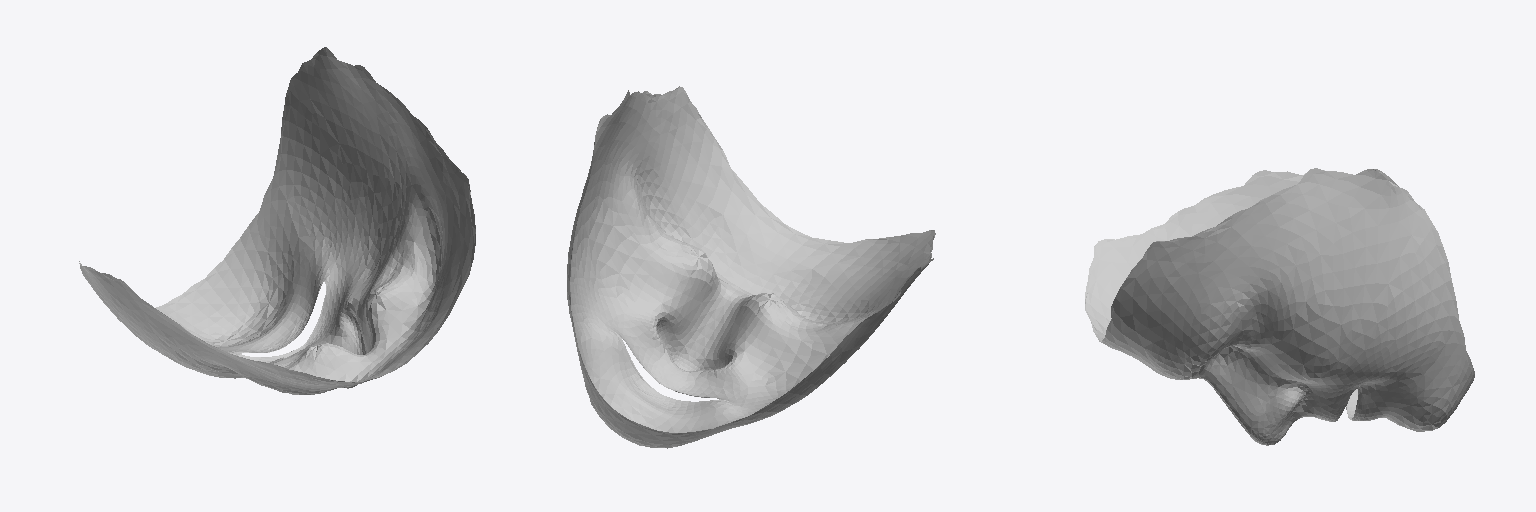
The model's file is face_gab_sfm42.obj.
The picture shows the model from 3 angles: view 1: azimuth 30°, elevation 25°; view 2: azimuth 150°, elevation 25°; view 3: azimuth 270°, elevation 25°; orthographic projection.
Bounding box in the file's own units: 164 × 152 × 182.